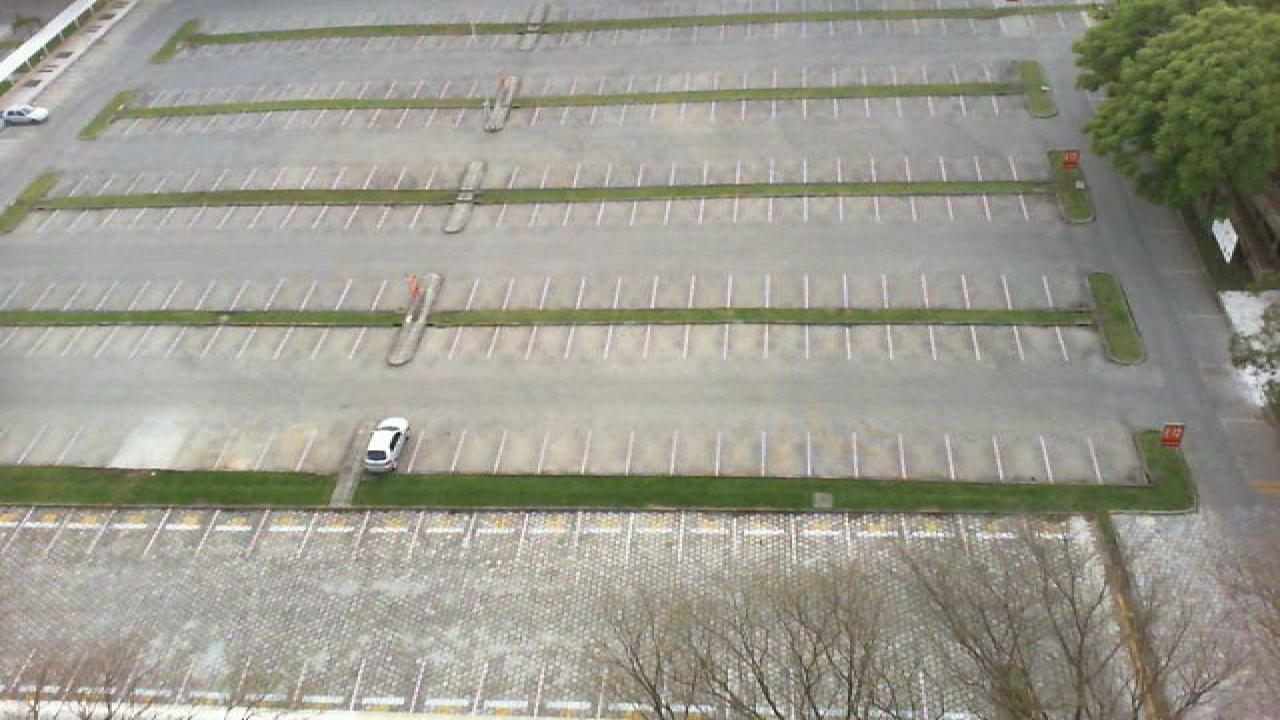Car: (360, 417, 410, 472), (0, 102, 48, 126)
